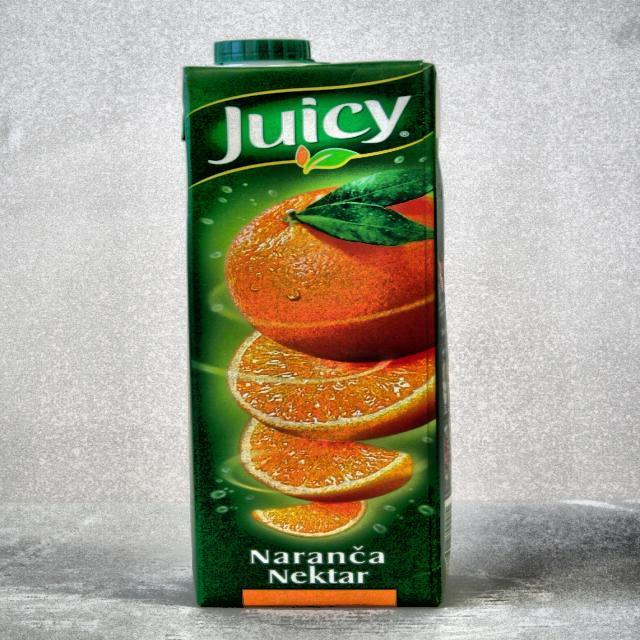cardboard: (181, 41, 451, 608)
